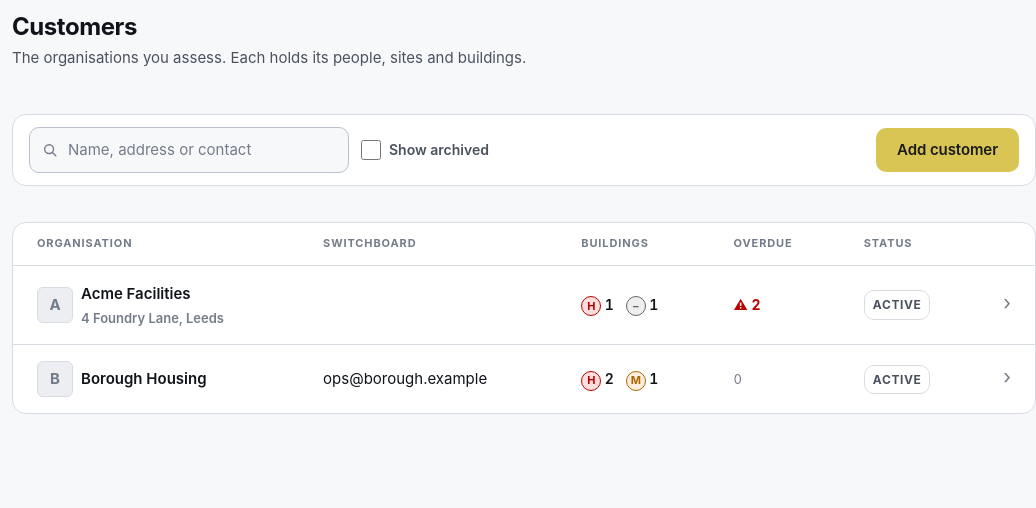
it: CustomersList › shows archived customers when the toggle is on
Step 1. Click the checkbox labelled "Show archived" → click(371, 150), box left=361, top=140, right=381, bottom=160
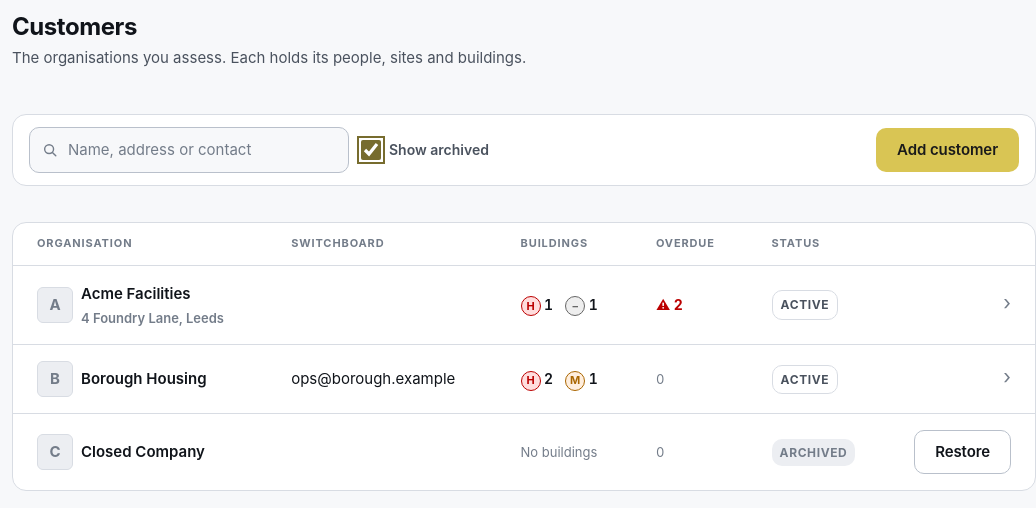
Expected: the text "Closed Company" is shown, left=81, top=440, right=205, bottom=464
